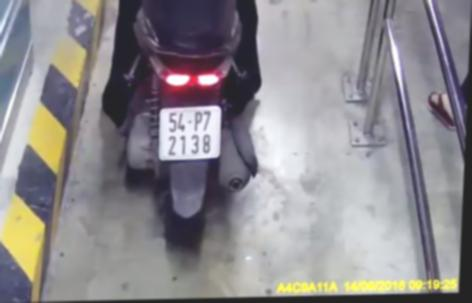License_Plate: (148, 102, 229, 164)
